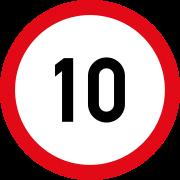Speed Limit -10-: (29, 29, 149, 152)
